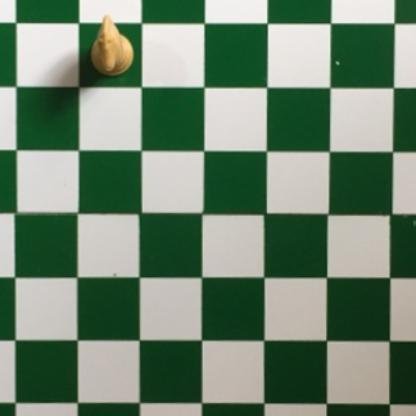white-knight: (87, 16, 135, 80)
